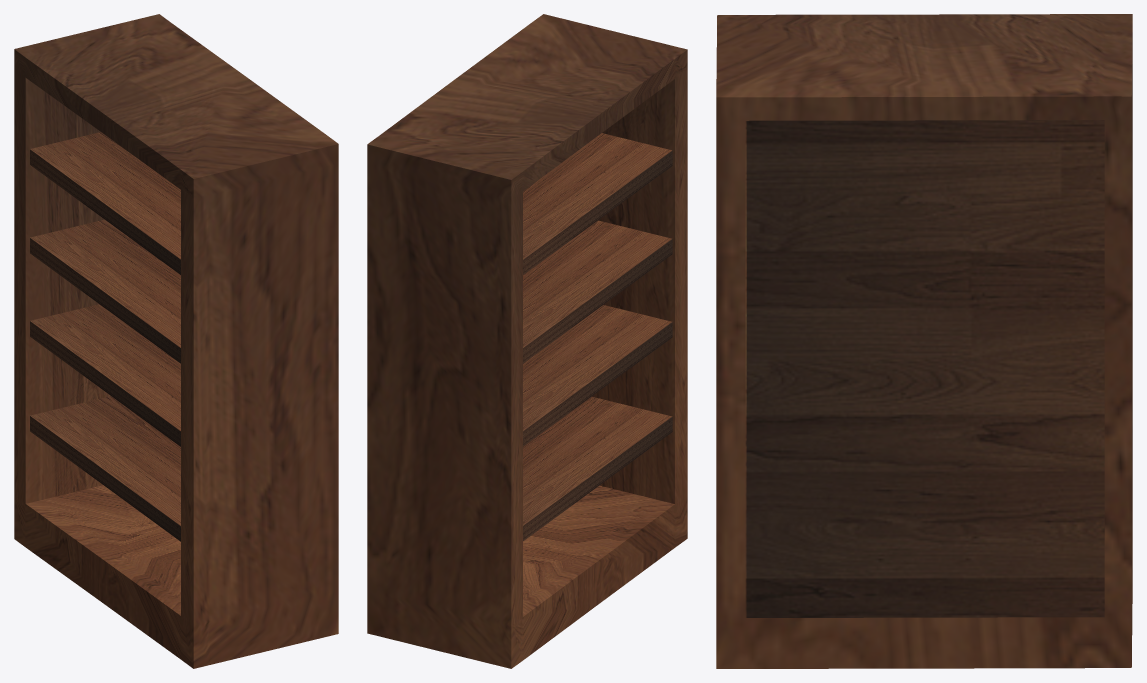
File: object_14_lev1.glb
The picture shows the model from 3 angles, left to right: view 1: azimuth 30°, elevation 25°; view 2: azimuth 150°, elevation 25°; view 3: azimuth 270°, elevation 25°; orthographic projection. The views are drawn at different scales.
Visible parts, largest first — view 1: object_14_lev1; view 2: object_14_lev1; view 3: object_14_lev1.
Part boxes in pixels (x1,y1,x2,y2): object_14_lev1: [14, 14, 338, 668]; object_14_lev1: [367, 14, 687, 668]; object_14_lev1: [716, 14, 1132, 668].
Bounding box in the file's own units: 3.84 × 12.28 × 8.11.
1 material, 1 textured.
